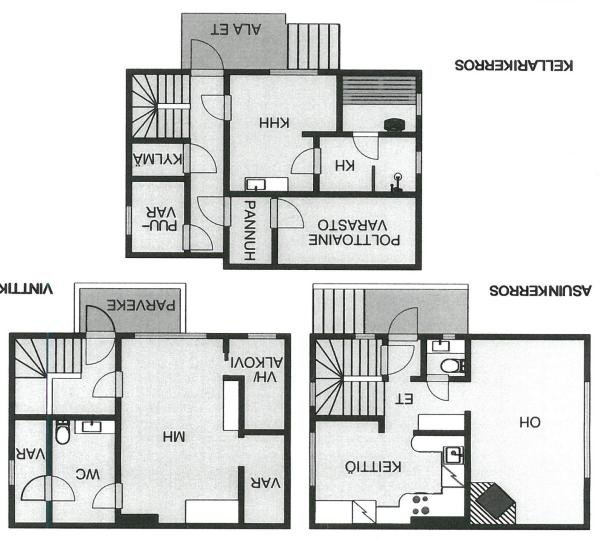door: (188, 37, 226, 78), (195, 193, 233, 231), (268, 196, 306, 232), (78, 304, 117, 338), (180, 144, 218, 176), (386, 308, 420, 342), (82, 332, 116, 366), (381, 342, 414, 377), (199, 92, 234, 124), (289, 145, 324, 176), (180, 221, 214, 252), (91, 370, 125, 400), (92, 480, 124, 510), (46, 472, 78, 502), (352, 130, 382, 161), (19, 475, 52, 503), (428, 373, 450, 402)
window: (580, 372, 594, 484), (131, 329, 212, 344), (264, 64, 322, 81), (306, 426, 320, 491), (122, 200, 136, 241), (242, 329, 282, 343), (5, 452, 19, 488), (413, 88, 427, 120), (307, 377, 319, 412), (413, 146, 426, 178), (352, 330, 379, 343), (439, 332, 459, 343)
